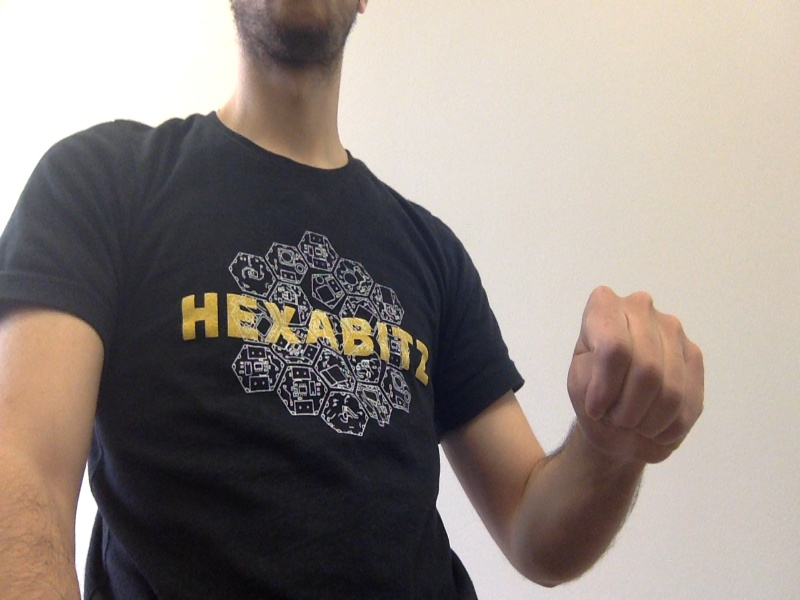0-hand: (567, 286, 704, 459)
